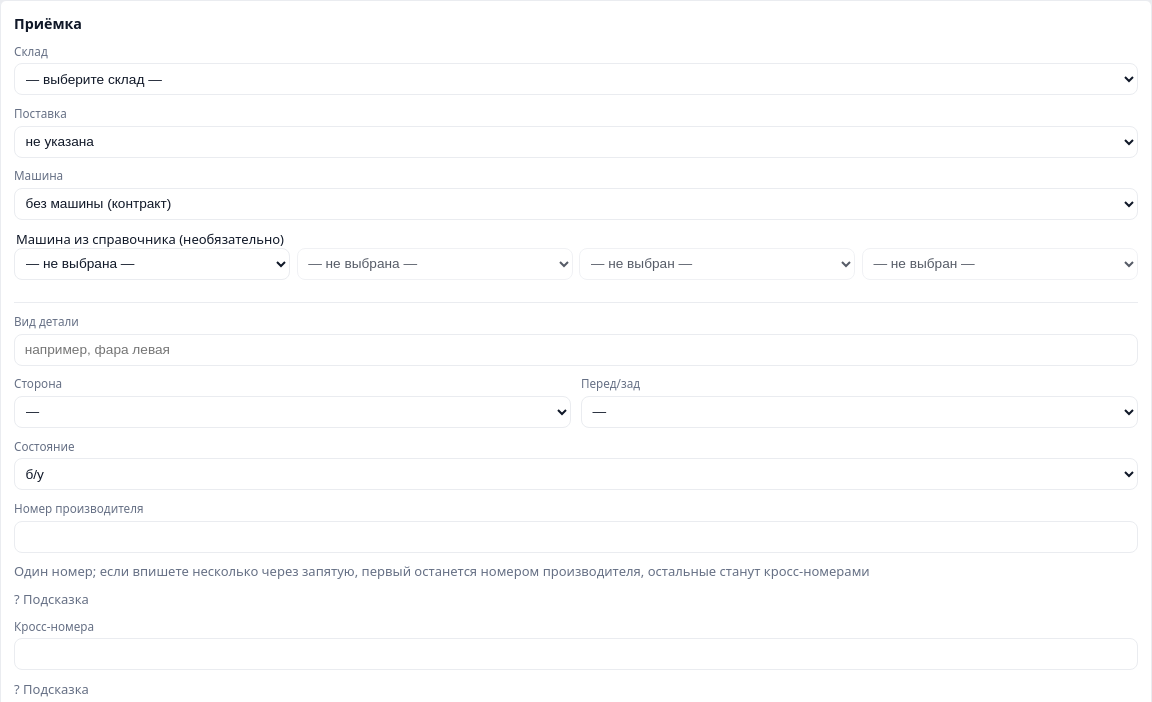
Scenario: состояние ожидаемой позиции на приёмке › кэш телефона без поля состояния открывает экран с «Не указано»
Step 1. Select "Ткацкая" in the dropdown labelled "Склад" → (576, 79), box [14,63,1138,95]
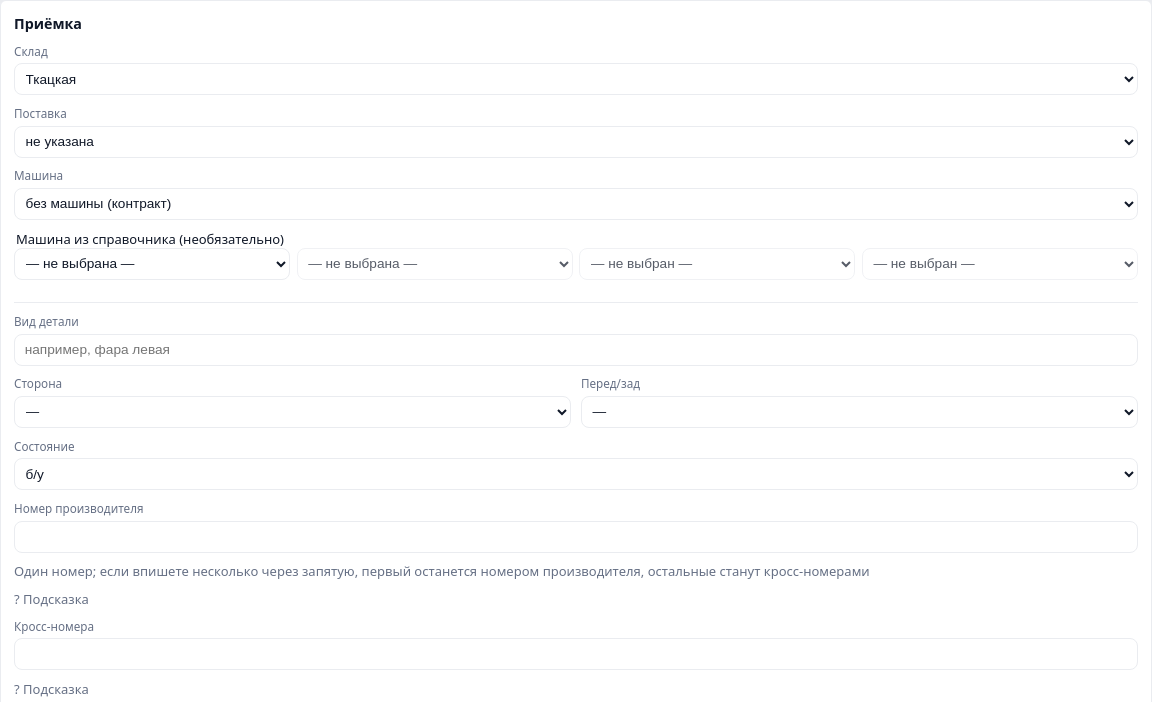
Step 2. Select "18 · Иокогама" in the dropdown labelled "Поставка" → (576, 142), box [14,126,1138,158]
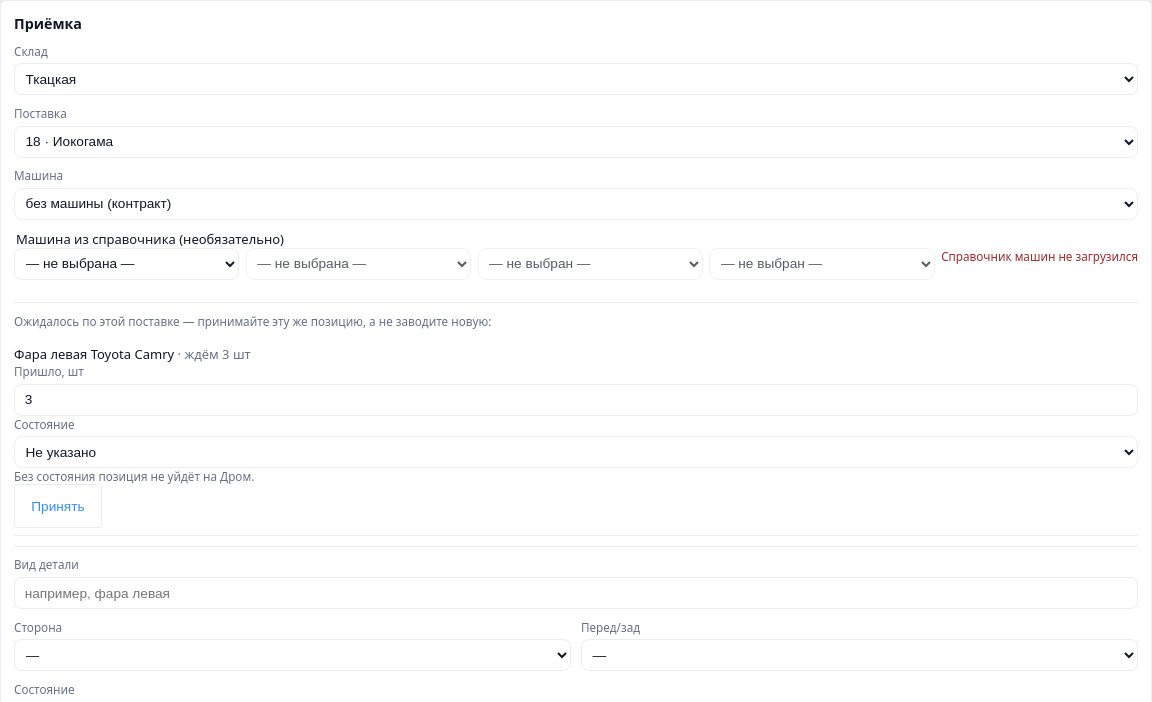
Now the dropdown labelled "Состояние" below "Фара левая Toyota Camry" shows "Не указано", box [14,436,1138,468]
Now the list item "Фара левая Toyota Camry" is shown, box [14,345,174,363]
